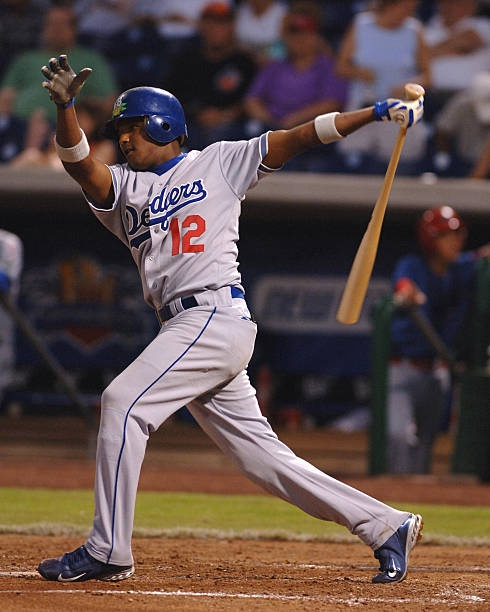bita: (330, 85, 429, 335)
